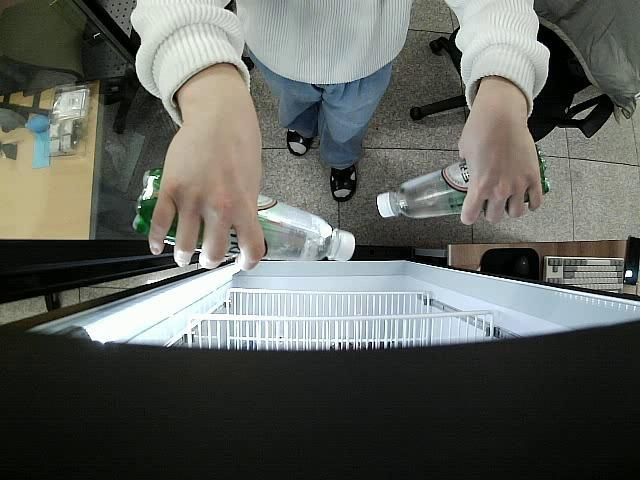18_trevi: (132, 167, 356, 262), (378, 144, 552, 220)
